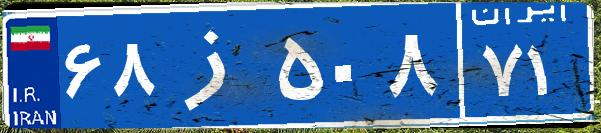0: (330, 28, 385, 110)
1: (525, 38, 570, 115)
5: (273, 28, 330, 110)
6: (57, 26, 110, 107)
7: (475, 38, 525, 113)
8: (385, 28, 445, 110), (110, 28, 158, 105)
ز: (158, 15, 273, 115)
